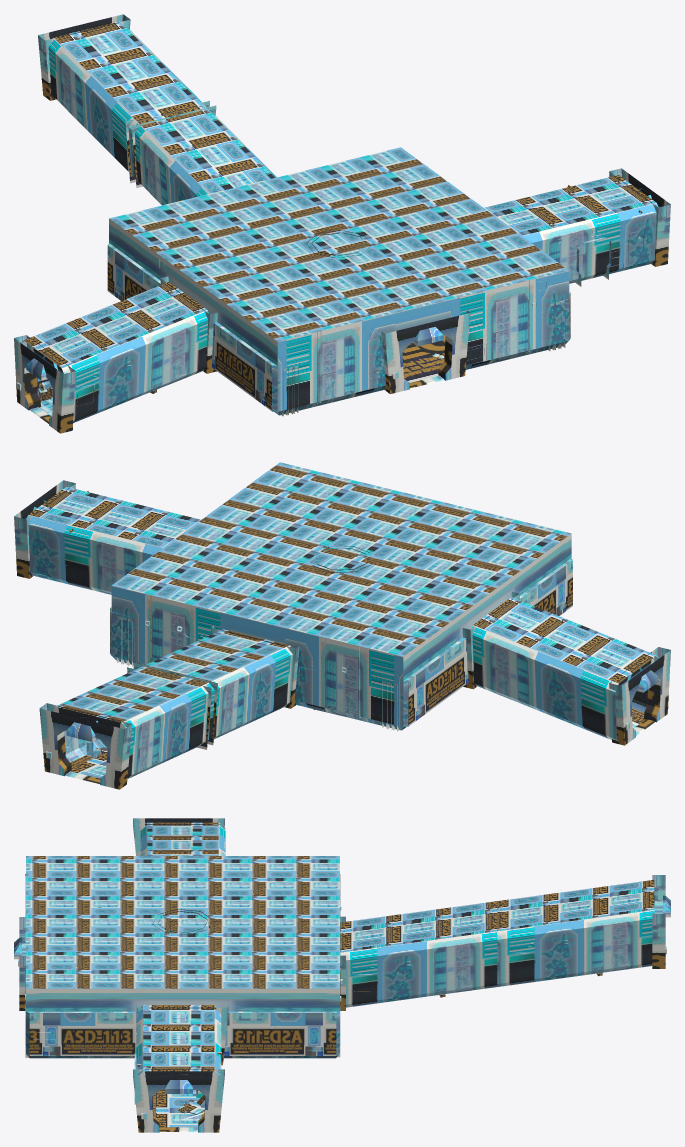
Rendered from Combined_Mesh_root_scene__11_1f1e19ed__ZombiesII_laboratory_10_a_1fa57b93_c1f257.obj.
The picture shows the model from 3 angles, top to bottom: view 1: azimuth 30°, elevation 25°; view 2: azimuth 150°, elevation 25°; view 3: azimuth 270°, elevation 25°; orthographic projection. The views are drawn at different scales.
Bounding box in the file's own units: 84.66 × 16.88 × 83.67.
291 materials, 291 textured.
